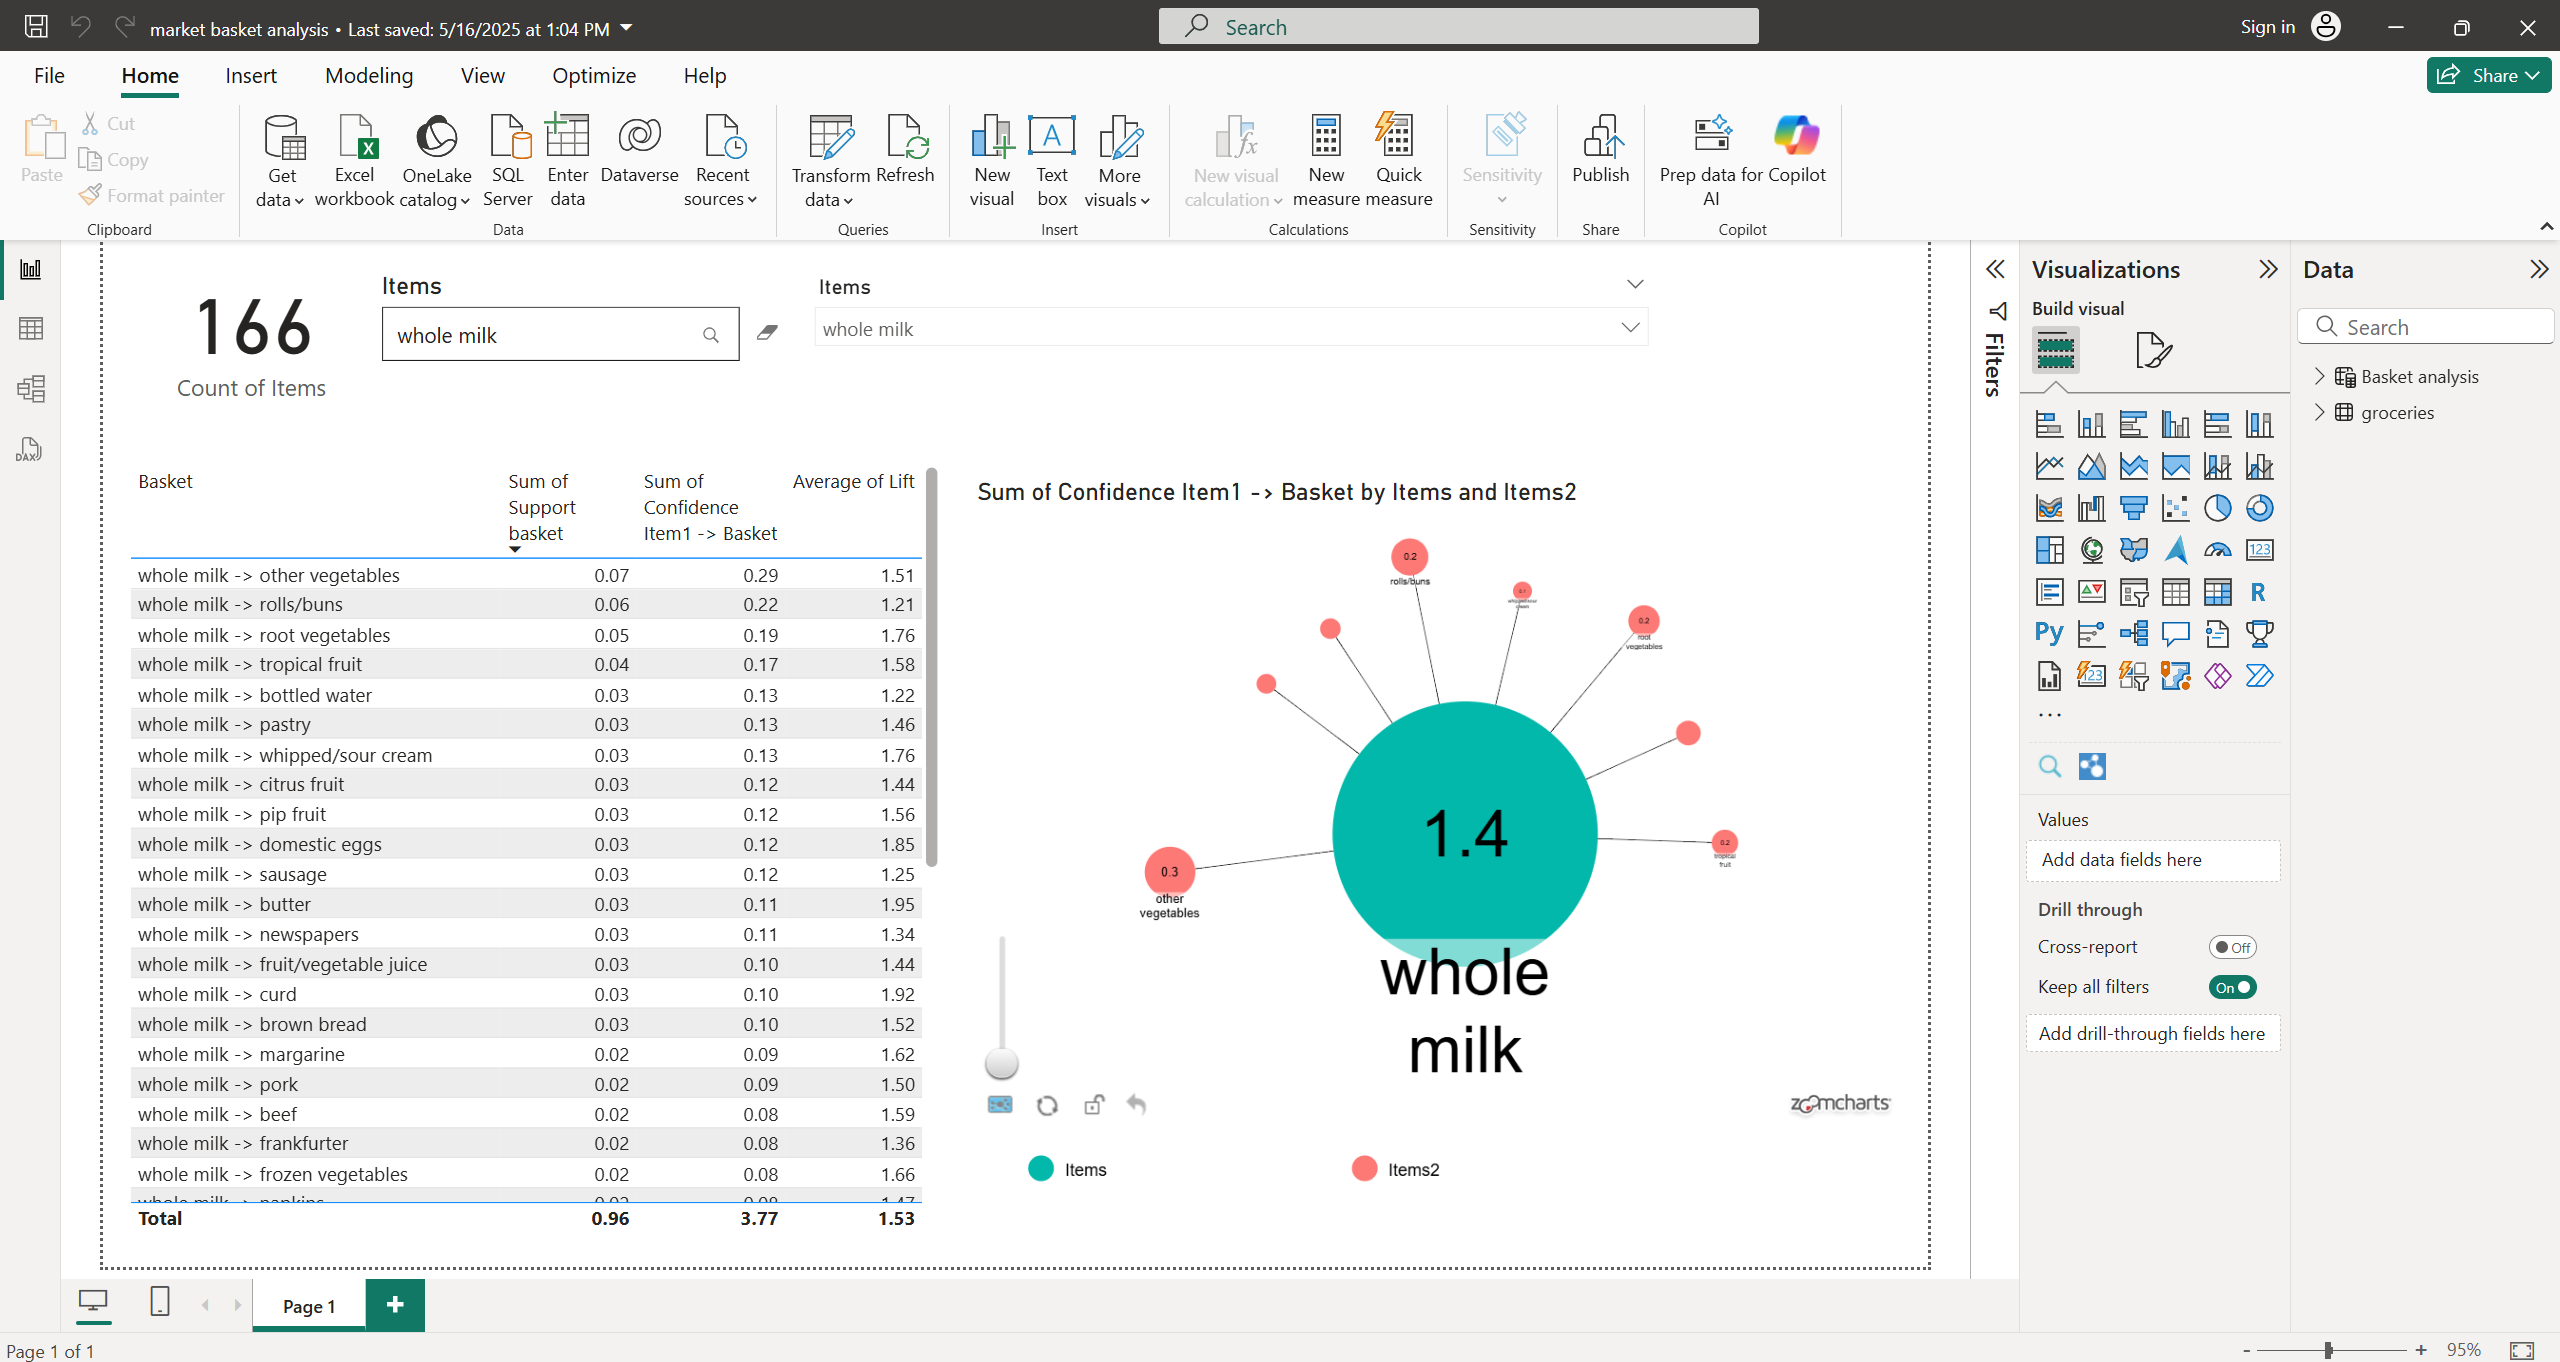

The dashboard page shown, as its layout file describes it:
{"tool":"powerbi","page":{"name":"Page 1","canvas":[1280,720],"ordinal":0},"visuals":[{"type":"tableEx","fields":{"Values":["Basket analysis.Basket","Sum(Basket analysis.Support basket)","Sum(Basket analysis.Confidence Item1 -> Basket)","Avg(Basket analysis.Lift)"]},"box":[13.3,153.3,576.7,546.7],"z":0},{"type":"card","fields":{"Values":["CountNonNull(Basket analysis.Items)"]},"box":[0,0,207.5,128.8],"z":1000},{"type":"ZoomChartsNetChartFreeD1C58E3B59077E6D06A4CB9B0D4E2029A917","fields":{"Nodes":["Basket analysis.Items","Basket analysis.Items2"],"Size":["Sum(Basket analysis.Confidence Item1 -> Basket)"]},"box":[607.8,166.7,657.8,520],"z":2000},{"type":"textFilter25A4896A83E0487089E2B90C9AE57C8A","fields":{"field":["Basket analysis.Items"]},"box":[190,22.5,298.8,85],"z":3000},{"type":"slicer","fields":{"Values":["Basket analysis.Items"]},"box":[488.9,18.9,604.4,76.7],"z":4000}]}

Visuals, with their boxes on the page's 1280x720 design canvas (x1, y1, x2, y2). These are canvas units, not pixel positions in the 2560x1362 screenshot, which may show the page scaled, cropped or inside an application window:
tableEx - Basket analysis.Basket x Sum(Basket analysis.Support basket): box(13, 153, 590, 700)
card - CountNonNull(Basket analysis.Items): box(0, 0, 208, 129)
ZoomChartsNetChartFreeD1C58E3B59077E6D06A4CB9B0D4E2029A917 - Basket analysis.Items x Basket analysis.Items2: box(608, 167, 1266, 687)
textFilter25A4896A83E0487089E2B90C9AE57C8A - Basket analysis.Items: box(190, 22, 489, 108)
slicer - Basket analysis.Items: box(489, 19, 1093, 96)
